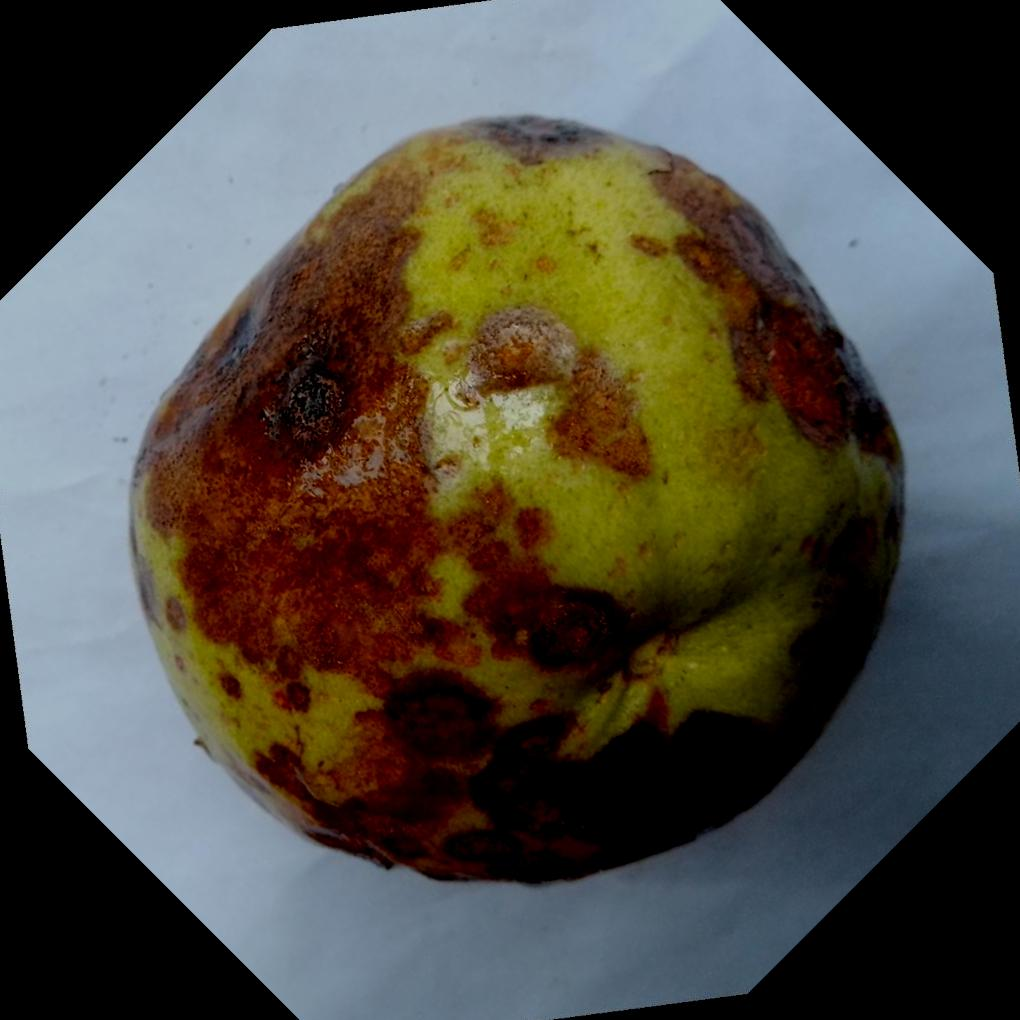FreshOrange: (125, 112, 905, 884)
